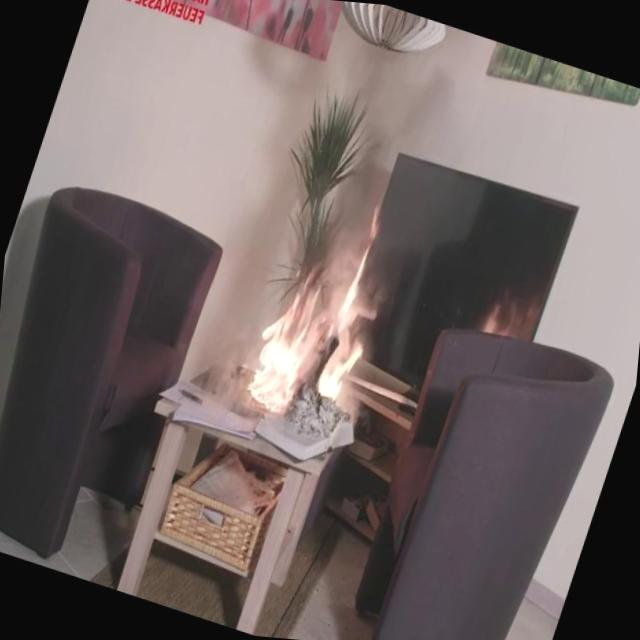fire: (216, 171, 416, 438)
